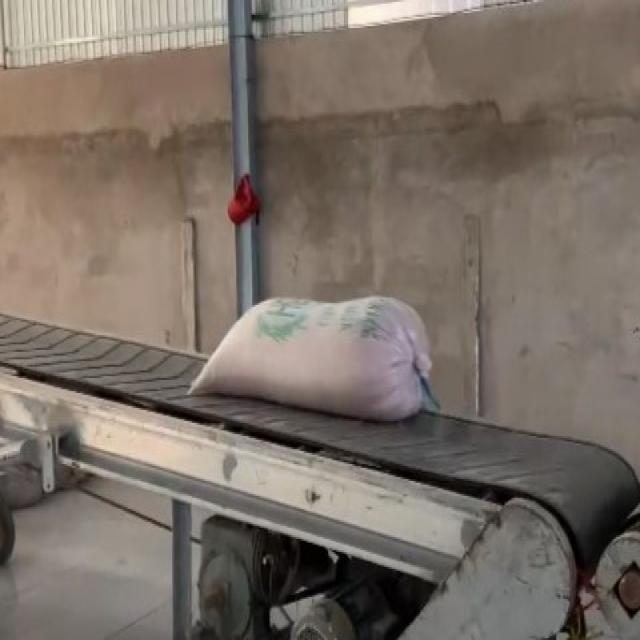gunny_bag: (189, 298, 436, 422)
